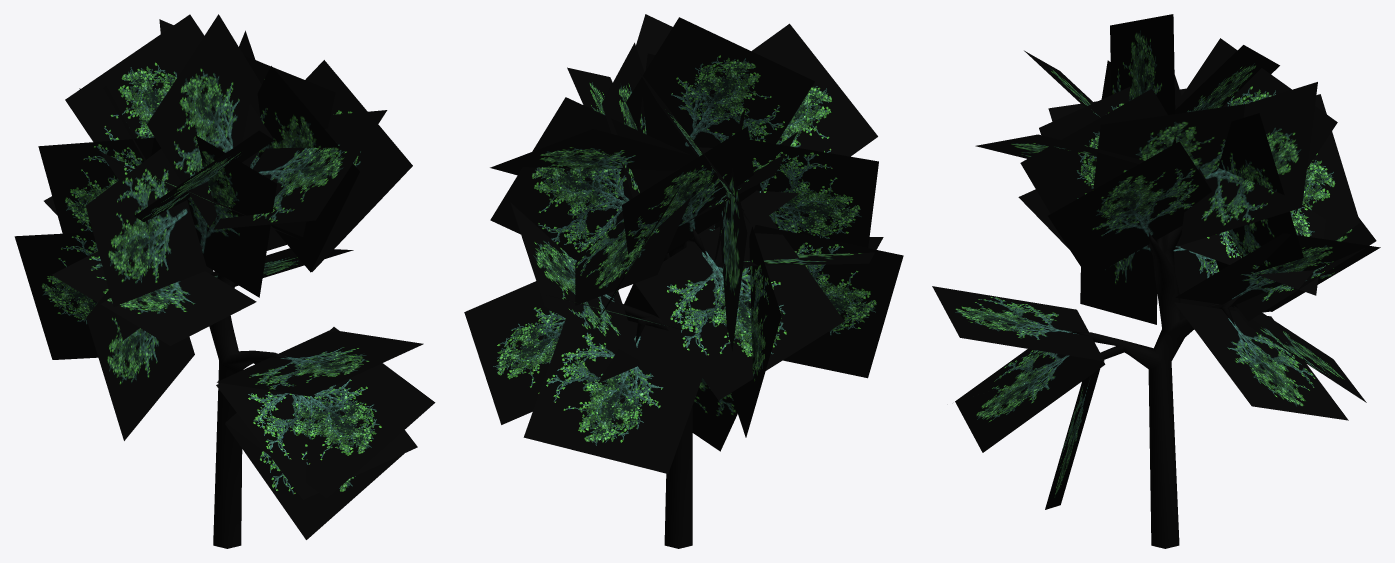
The model's file is tree64.glb.
3 renders of one model, left to right at view 1: azimuth 30°, elevation 25°; view 2: azimuth 150°, elevation 25°; view 3: azimuth 270°, elevation 25°, orthographic.
Bounding box in the file's own units: 4.82 × 6.87 × 5.32.
Materials: 2 (1 with a texture image).
